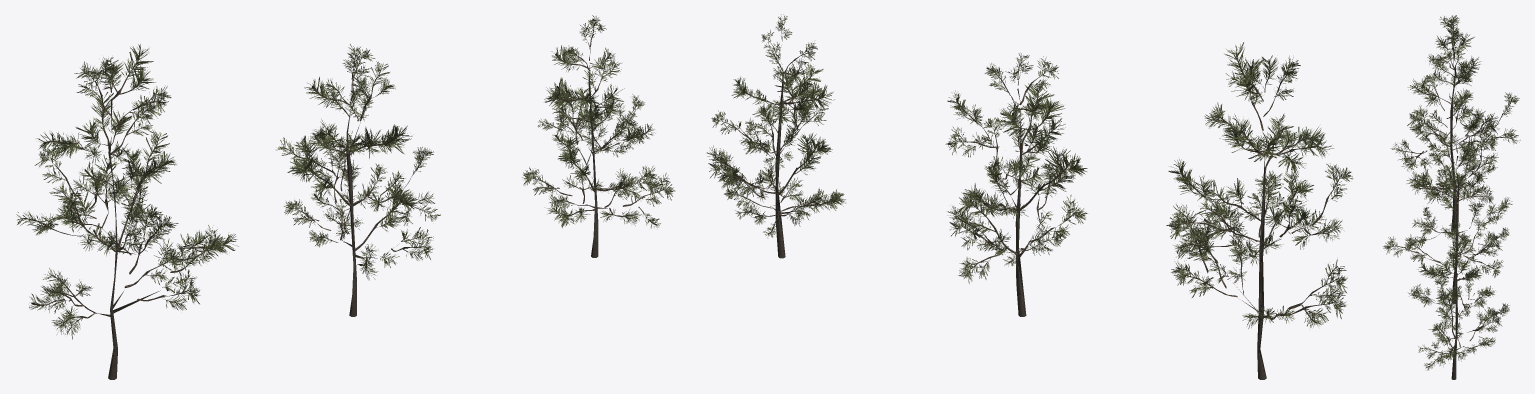
Rendered from pine-sapling.glb.
The picture shows the model from 3 angles, left to right: view 1: azimuth 30°, elevation 25°; view 2: azimuth 150°, elevation 25°; view 3: azimuth 270°, elevation 25°; orthographic projection. The views are drawn at different scales.
Parts seen in each view (by area): view 1: pine_sapling_small_a, pine_sapling_small_b, pine_sapling_small_c; view 2: pine_sapling_small_a, pine_sapling_small_b, pine_sapling_small_c; view 3: pine_sapling_small_a, pine_sapling_small_b, pine_sapling_small_c.
Boxes of the visible parts, box(x1,y1,x2,y2) form: pine_sapling_small_a: box(16, 44, 238, 379); pine_sapling_small_b: box(276, 44, 440, 316); pine_sapling_small_c: box(522, 15, 675, 257); pine_sapling_small_a: box(1166, 42, 1353, 379); pine_sapling_small_b: box(945, 52, 1087, 316); pine_sapling_small_c: box(707, 14, 845, 258); pine_sapling_small_a: box(1390, 15, 1520, 231); pine_sapling_small_b: box(1383, 133, 1512, 304); pine_sapling_small_c: box(1408, 222, 1509, 379).
Bounding box in the file's own units: 2.64 × 1.3 × 0.7703.
2 materials, 2 textured.
